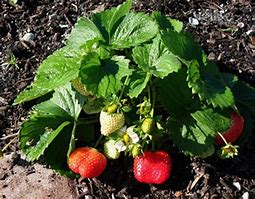Fresa: (132, 149, 172, 184), (214, 107, 245, 147), (70, 146, 107, 179)
